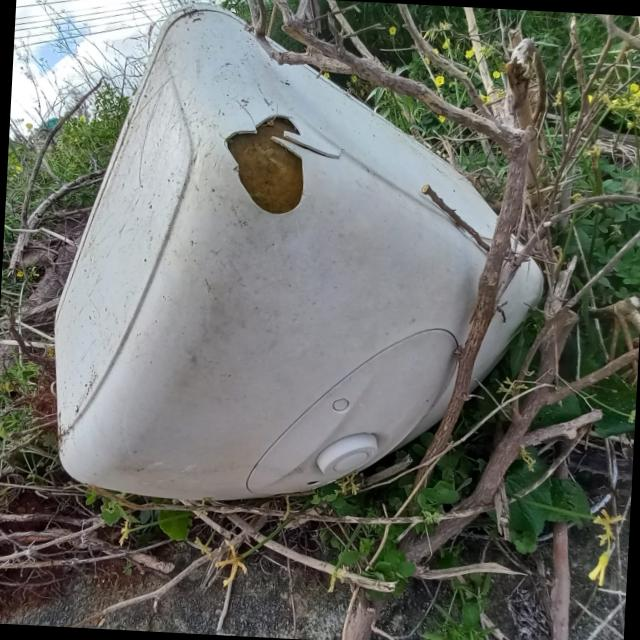Other litter: (53, 2, 545, 502)
